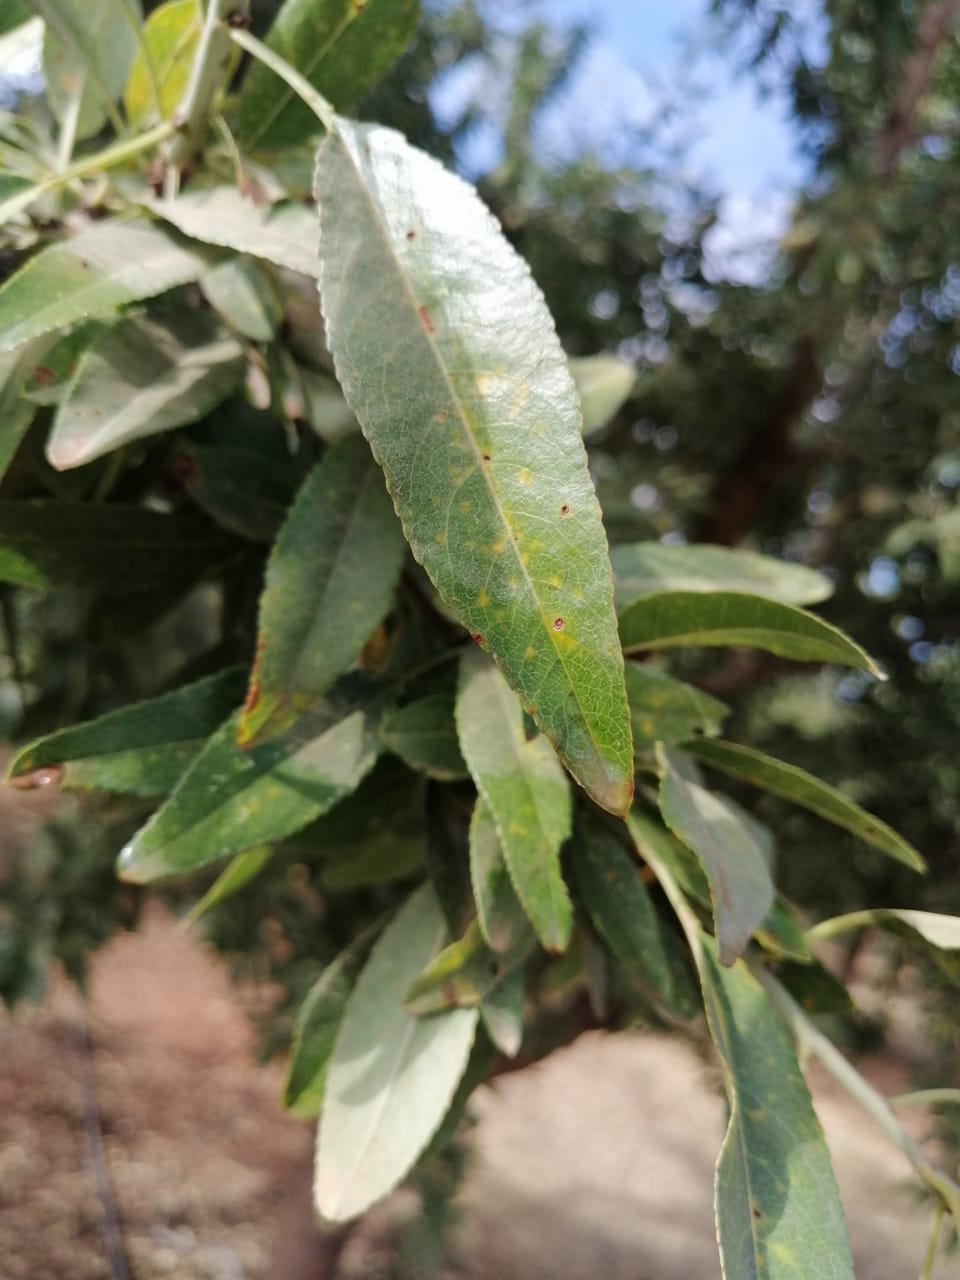rouille: (309, 118, 637, 818), (683, 921, 860, 1280), (240, 429, 409, 748), (5, 675, 255, 794)
